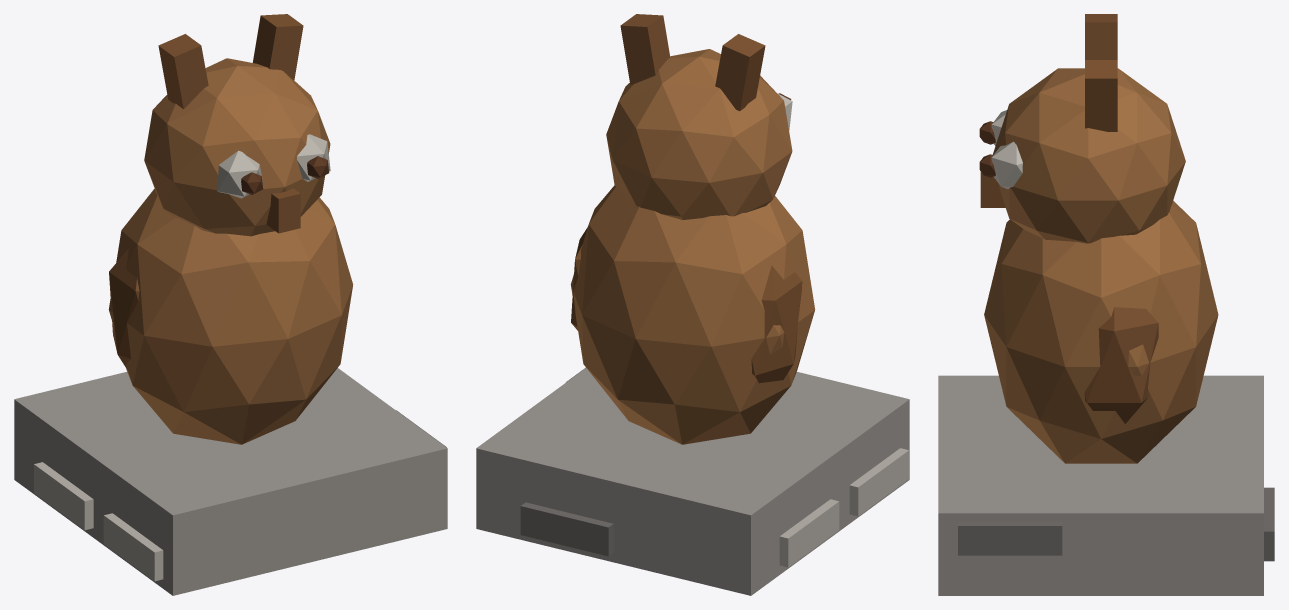
The model's file is carving.glb.
3 views of the same model, side by side, from view 1: azimuth 30°, elevation 25°; view 2: azimuth 150°, elevation 25°; view 3: azimuth 270°, elevation 25° (orthographic). The views are drawn at different scales.
Parts seen in each view (by area): view 1: footing, body, head, plank_dark, stone_light, timber; view 2: footing, body, head, plank_dark, stone_light, stone_dark; view 3: footing, body, head, plank_dark, stone_dark, stone_light, timber.
Boxes of the visible parts, x1=… form: footing: x1=14, y1=368, x2=447, y2=595; body: x1=108, y1=189, x2=353, y2=444; head: x1=144, y1=58, x2=330, y2=236; plank_dark: x1=109, y1=14, x2=303, y2=369; stone_light: x1=34, y1=134, x2=330, y2=581; timber: x1=241, y1=156, x2=329, y2=194; footing: x1=476, y1=368, x2=909, y2=595; body: x1=570, y1=185, x2=815, y2=444; head: x1=606, y1=49, x2=792, y2=219; plank_dark: x1=571, y1=14, x2=802, y2=383; stone_light: x1=777, y1=93, x2=908, y2=567; stone_dark: x1=520, y1=367, x2=613, y2=556; footing: x1=938, y1=375, x2=1263, y2=595; body: x1=984, y1=200, x2=1218, y2=463; head: x1=992, y1=68, x2=1185, y2=243; plank_dark: x1=980, y1=14, x2=1158, y2=423; stone_dark: x1=958, y1=487, x2=1274, y2=561; stone_light: x1=991, y1=110, x2=1022, y2=189; timber: x1=979, y1=121, x2=995, y2=177.
Bounding box in the file's own units: 0.532 × 0.8237 × 0.516.
